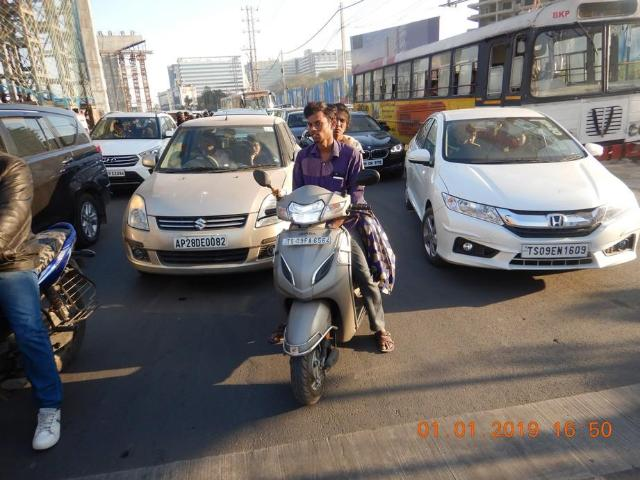motor: (249, 167, 402, 411)
non-helm: (305, 101, 338, 149), (329, 104, 352, 138)
